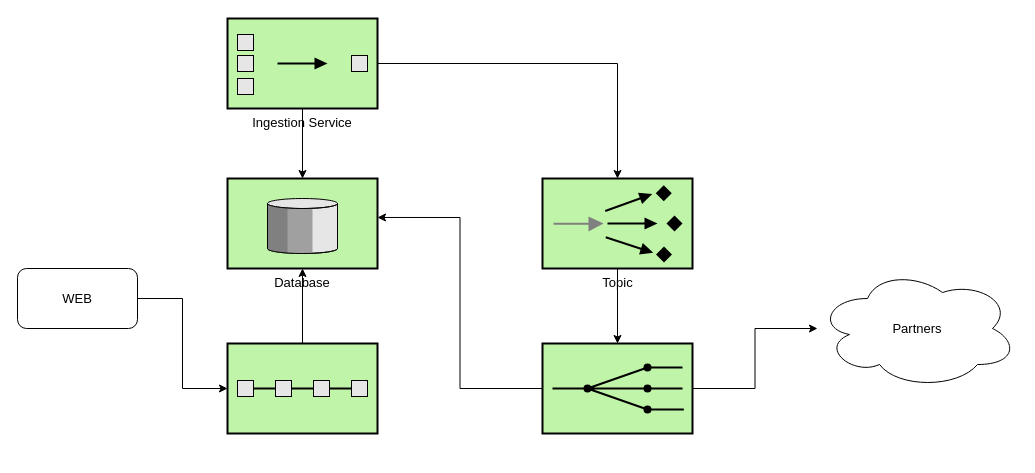
This 1035x473 diagram has some shape labels left out. The centre of each missing label's shape, as x and y in pixels:
"API Service" goes at (x=302, y=388).
"Integration Service" goes at (x=617, y=388).
